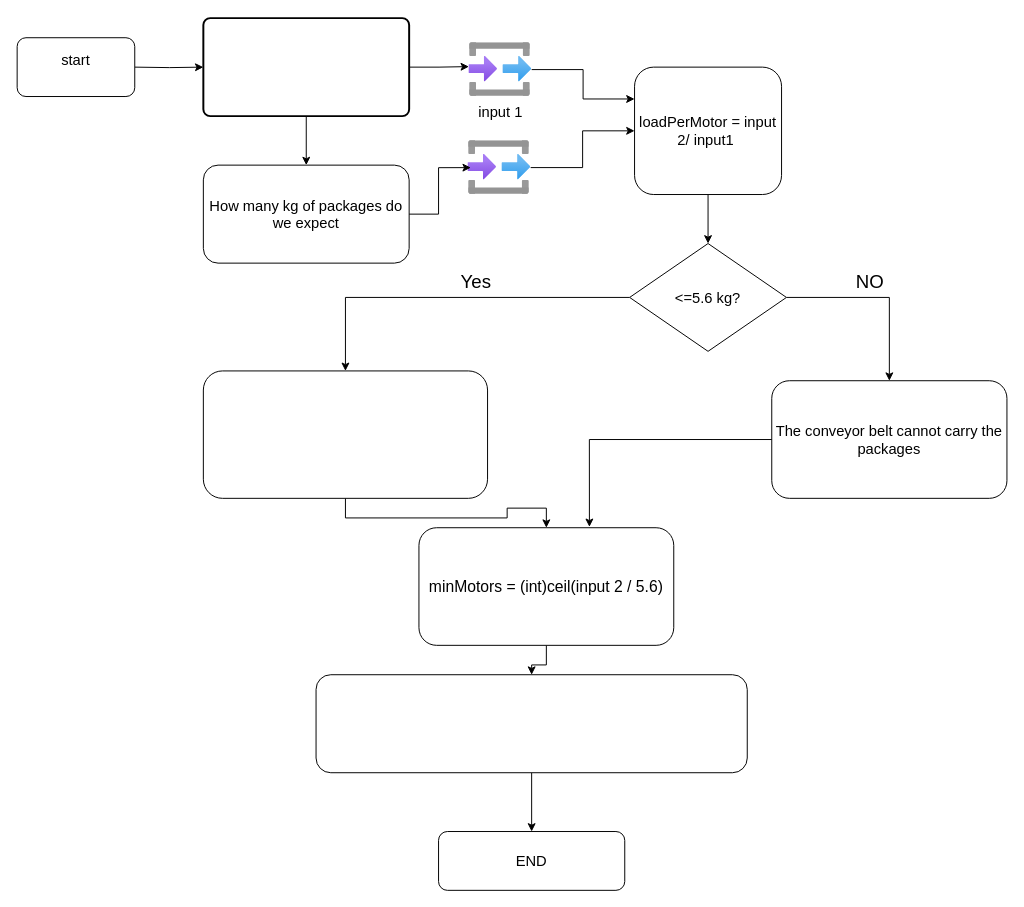
Some shapes in this 1024 by 907 pixel diagram are drawn without their labels. The centre of each missing label's shape, as x and y in pixels:
"How many motors are carrying the packages" goes at (x=306, y=67).
"input 2" goes at (x=498, y=167).
"The conveyor belt can carry the packages." goes at (x=345, y=434).
"We recommend using at least (minMotors) motors for this load" goes at (x=531, y=723).
